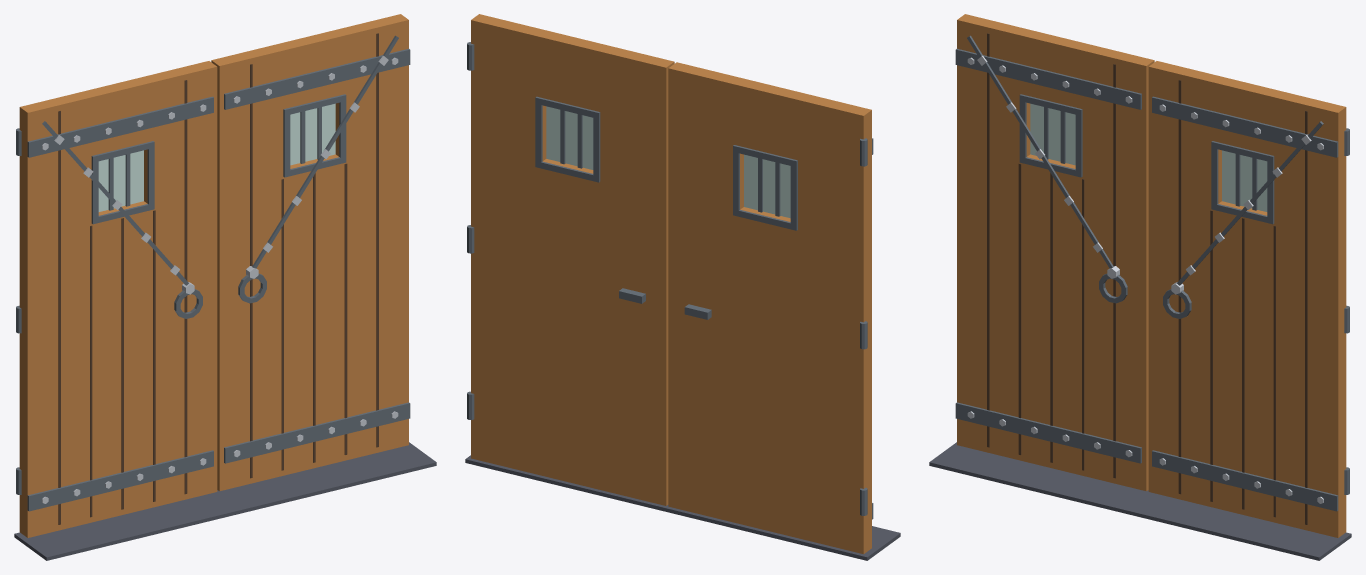
Rendered from CatCafe_Door_Drawbridge_Front.glb.
3 views of the same model, side by side, from view 1: azimuth 30°, elevation 25°; view 2: azimuth 150°, elevation 25°; view 3: azimuth 330°, elevation 25° (orthographic). The views are drawn at different scales.
Parts seen in each view (by area): view 1: CatCafe_Door_Drawbridge_Front_LeafR, CatCafe_Door_Drawbridge_Front_LeafL, CatCafe_Door_Drawbridge_Front, CatCafe_Door_Drawbridge_Front_LeafL_Glass, CatCafe_Door_Drawbridge_Front_LeafR_Glass; view 2: CatCafe_Door_Drawbridge_Front_LeafR, CatCafe_Door_Drawbridge_Front_LeafL, CatCafe_Door_Drawbridge_Front, CatCafe_Door_Drawbridge_Front_LeafL_Glass, CatCafe_Door_Drawbridge_Front_LeafR_Glass; view 3: CatCafe_Door_Drawbridge_Front_LeafL, CatCafe_Door_Drawbridge_Front_LeafR, CatCafe_Door_Drawbridge_Front, CatCafe_Door_Drawbridge_Front_LeafR_Glass, CatCafe_Door_Drawbridge_Front_LeafL_Glass.
Part boxes in pixels (x1,y1,x2,y2): CatCafe_Door_Drawbridge_Front_LeafR: [16, 61, 217, 537]; CatCafe_Door_Drawbridge_Front_LeafL: [211, 14, 410, 491]; CatCafe_Door_Drawbridge_Front: [14, 442, 436, 560]; CatCafe_Door_Drawbridge_Front_LeafL_Glass: [290, 103, 335, 165]; CatCafe_Door_Drawbridge_Front_LeafR_Glass: [98, 150, 143, 211]; CatCafe_Door_Drawbridge_Front_LeafR: [668, 62, 873, 554]; CatCafe_Door_Drawbridge_Front_LeafL: [467, 14, 674, 505]; CatCafe_Door_Drawbridge_Front: [465, 455, 900, 560]; CatCafe_Door_Drawbridge_Front_LeafL_Glass: [546, 106, 593, 169]; CatCafe_Door_Drawbridge_Front_LeafR_Glass: [744, 154, 790, 218]; CatCafe_Door_Drawbridge_Front_LeafL: [1148, 61, 1349, 537]; CatCafe_Door_Drawbridge_Front_LeafR: [955, 14, 1154, 491]; CatCafe_Door_Drawbridge_Front: [929, 442, 1351, 560]; CatCafe_Door_Drawbridge_Front_LeafR_Glass: [1030, 103, 1075, 165]; CatCafe_Door_Drawbridge_Front_LeafL_Glass: [1222, 150, 1267, 211].
Size of the model in its own units: 6.96 by 7.33 by 1.09.
Materials: 1 (1 with a texture image).
